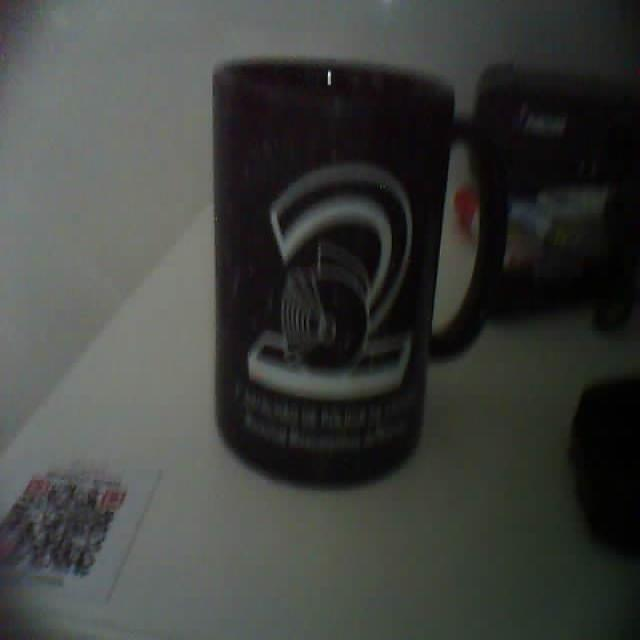caneca: (213, 59, 507, 481)
